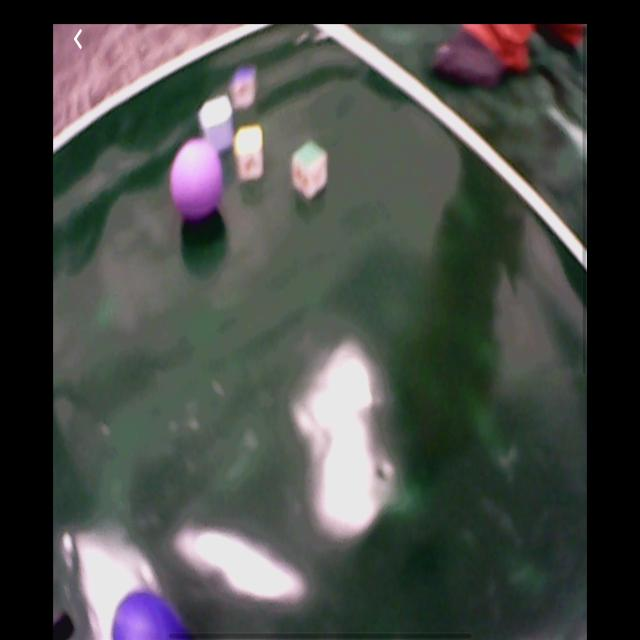ball: (172, 141, 223, 222), (111, 593, 183, 640)
